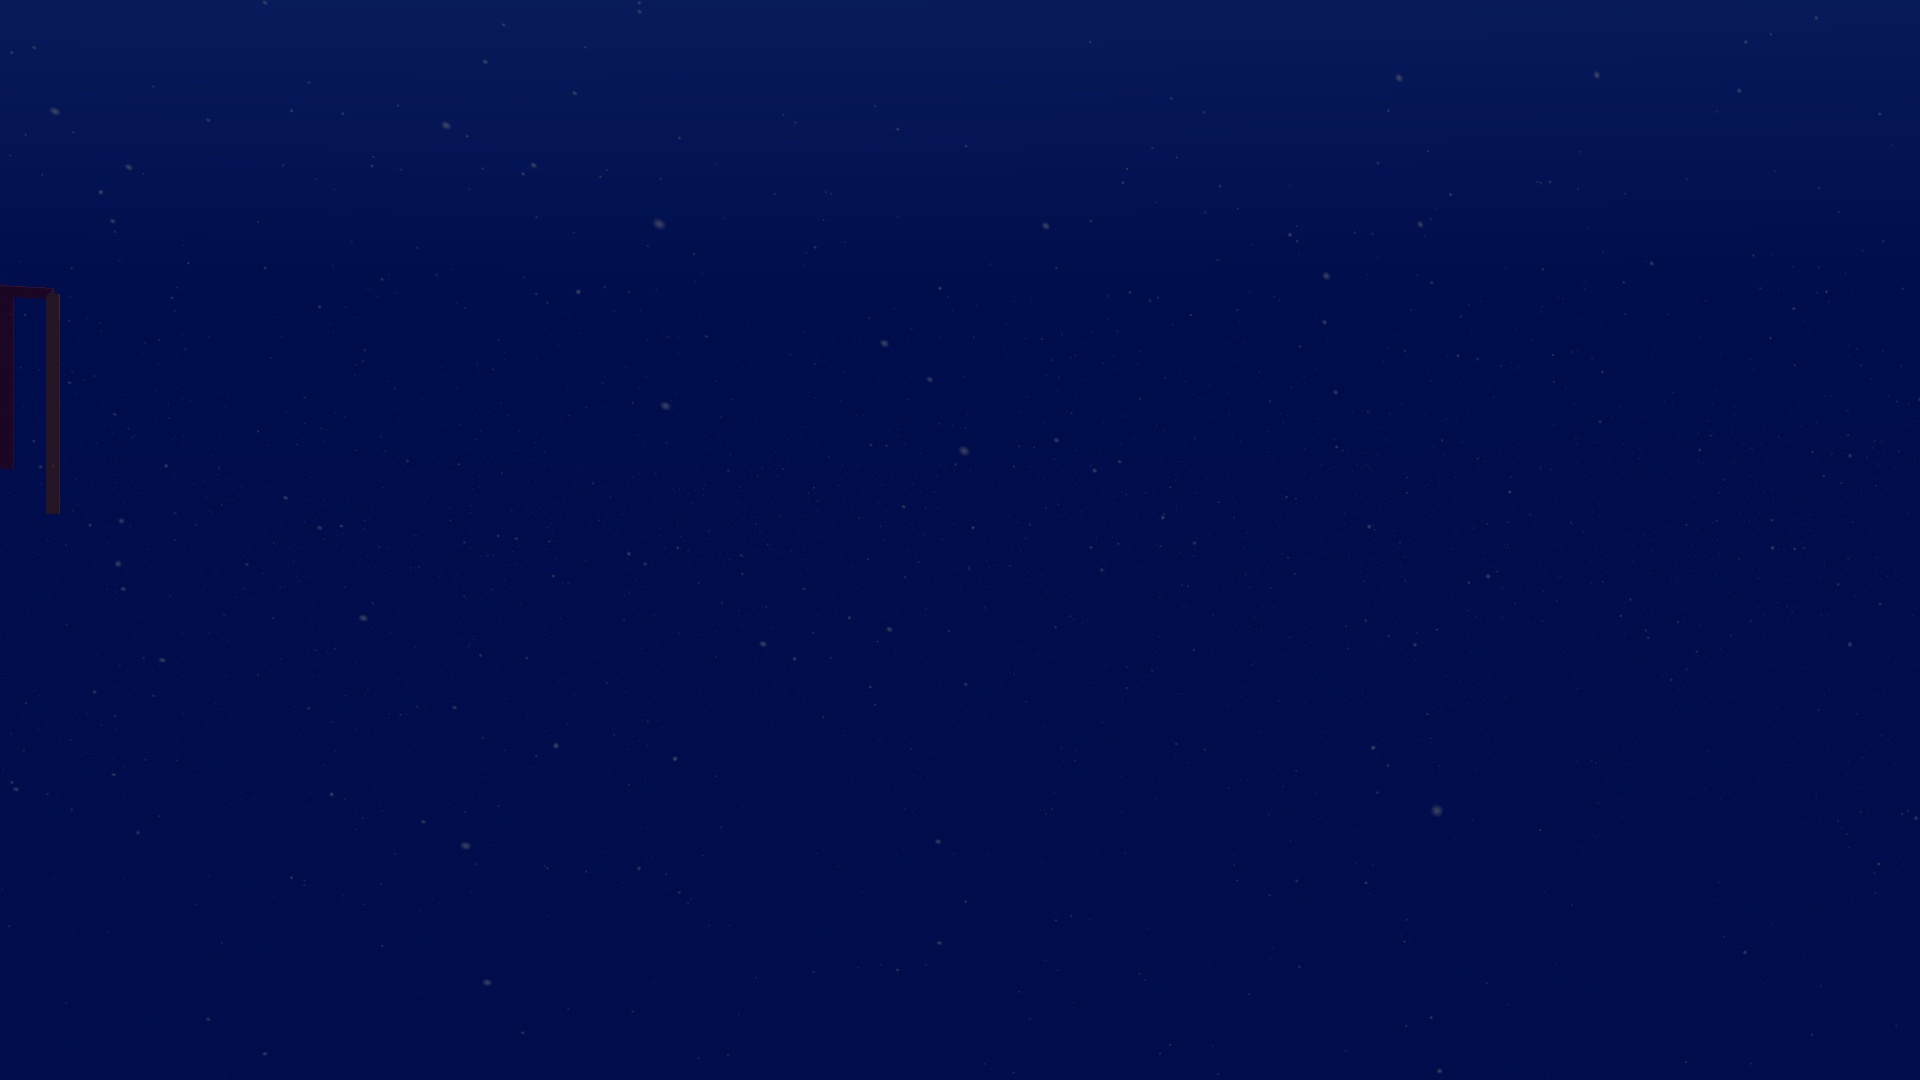Gate: (1, 268, 73, 529)
